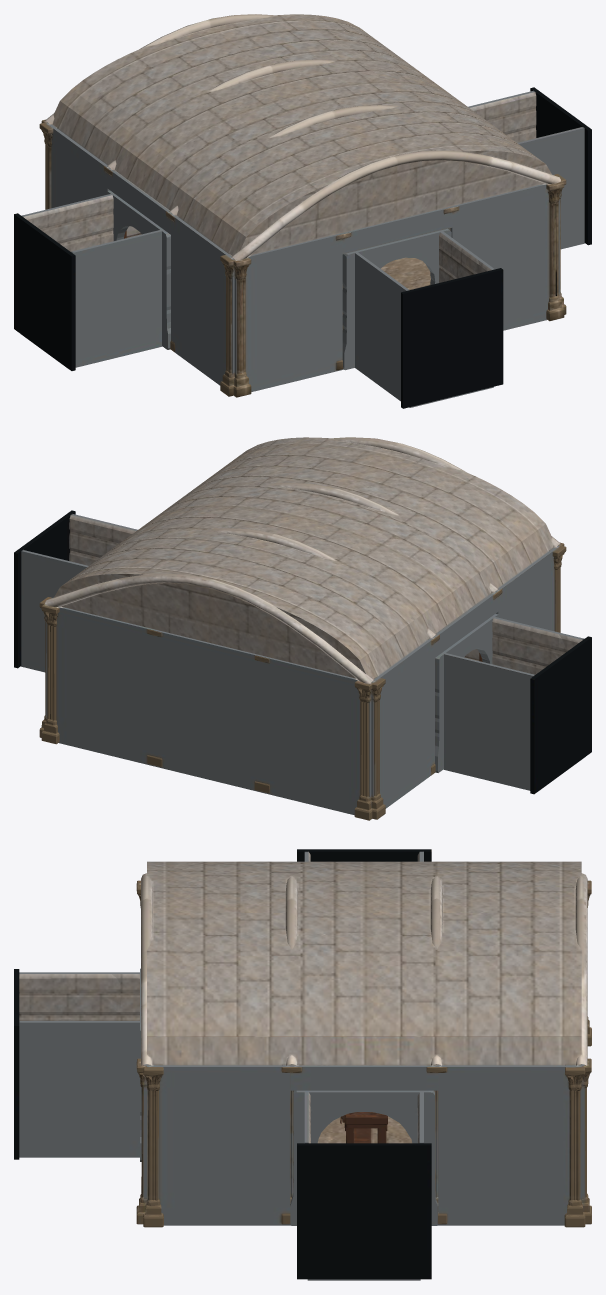
Rendered from room.glb.
The picture shows the model from 3 angles, top to bottom: view 1: azimuth 30°, elevation 25°; view 2: azimuth 150°, elevation 25°; view 3: azimuth 270°, elevation 25°; orthographic projection. The views are drawn at different scales.
Visible parts, largest first — view 1: WORKBENCH-ROOM; view 2: WORKBENCH-ROOM; view 3: WORKBENCH-ROOM.
Part boxes in pixels (x1,y1,x2,y2): WORKBENCH-ROOM: [14, 14, 591, 408]; WORKBENCH-ROOM: [14, 437, 591, 820]; WORKBENCH-ROOM: [14, 849, 591, 1280].
Size of the model in its own units: 16.12 by 5.95 by 13.3.
1 material, 1 textured.
